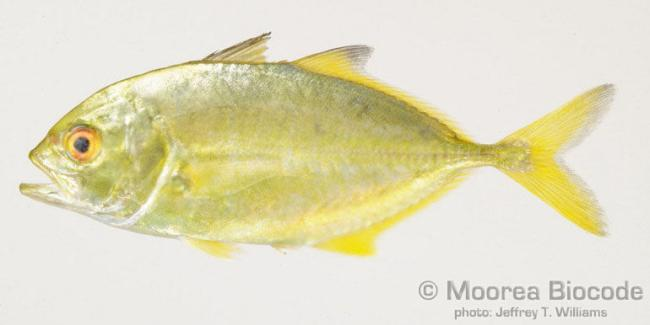fish: (18, 33, 616, 258)
